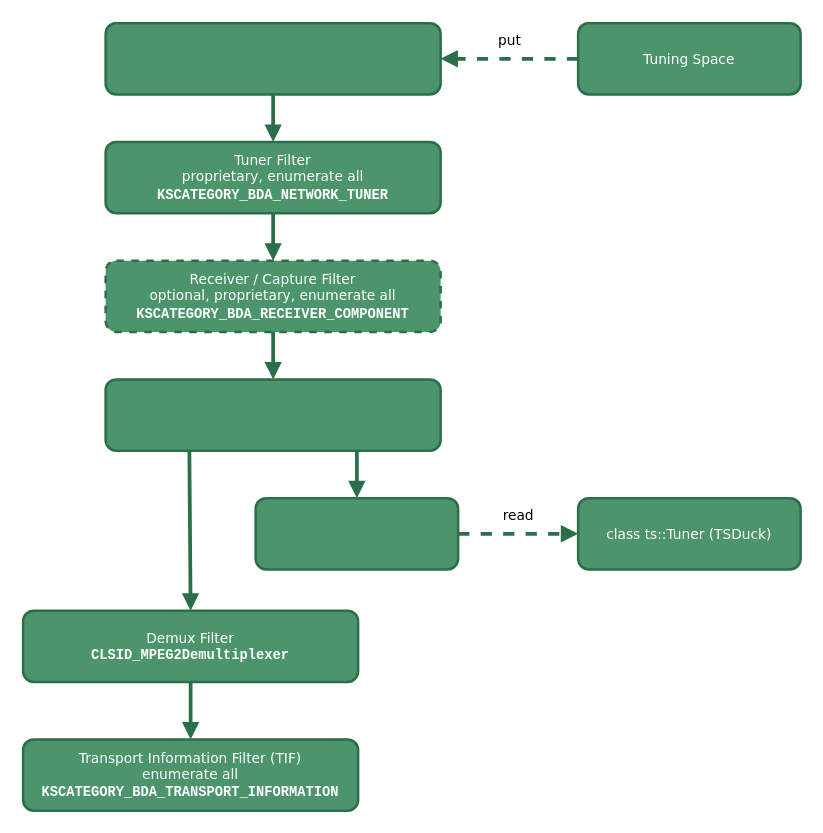
Image size: 823x833. Some labels were removed from this diagram. The box of each missing label's shape, as (x1, y1, x2, y2) in pixels:
Infinite Tee Filter CLSID_InfTee: (104, 378, 441, 451)
Microsoft Network Provider CLSID_NetworkProvider: (104, 21, 441, 95)
Sink Filter (TSDuck): (254, 496, 459, 570)
